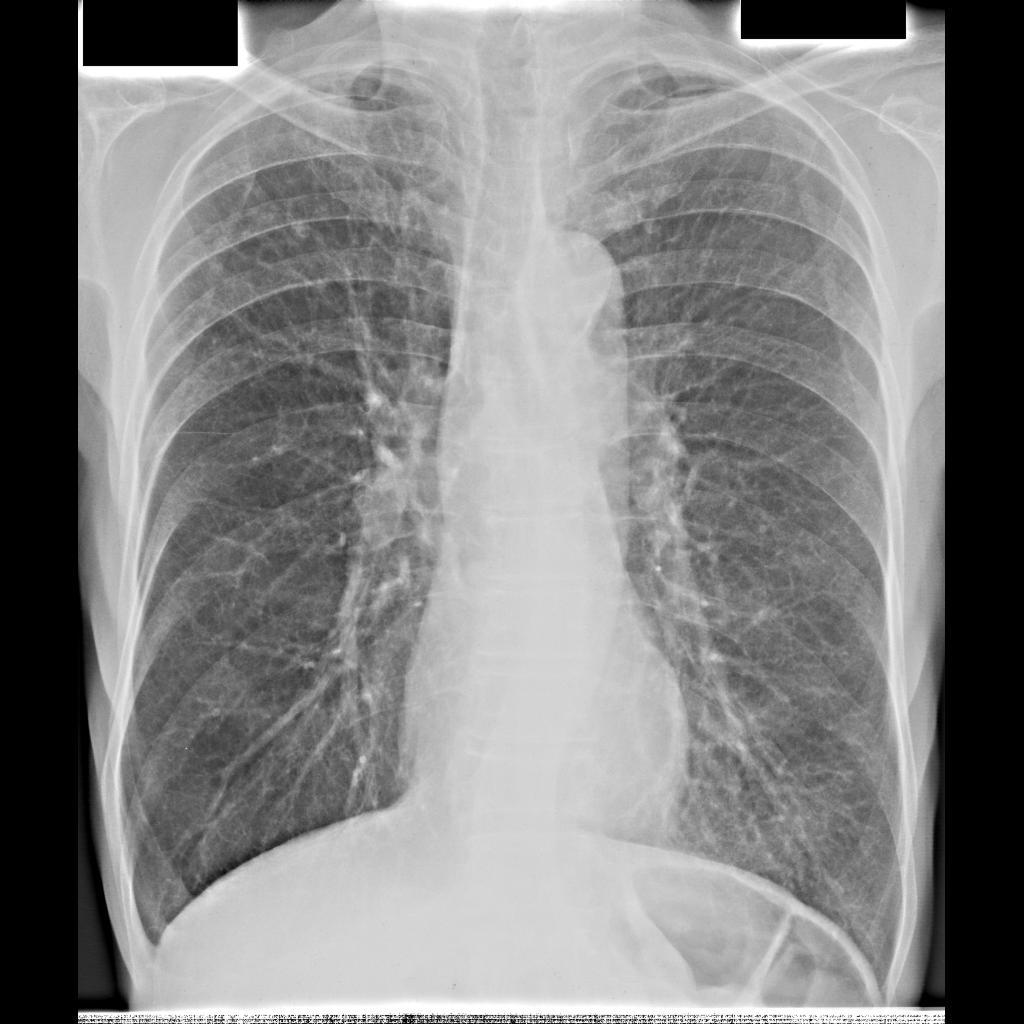Nodule: (304, 98, 349, 143)
